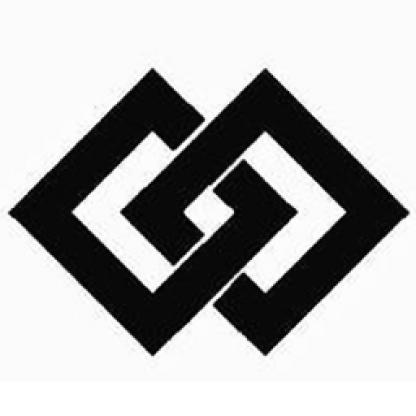kamon: (8, 57, 413, 364)
